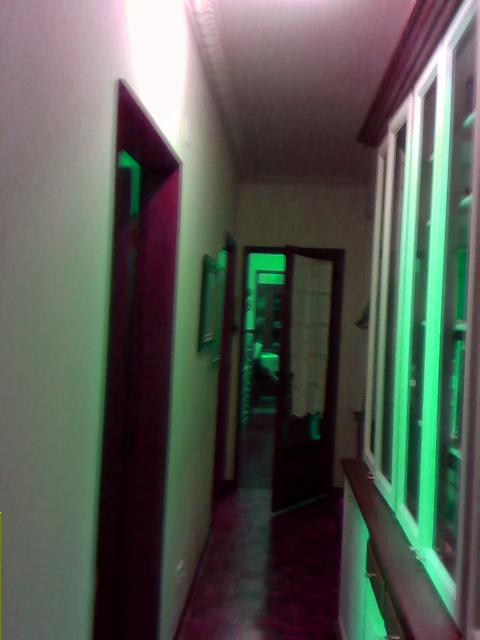semi_door: (233, 244, 344, 514)
